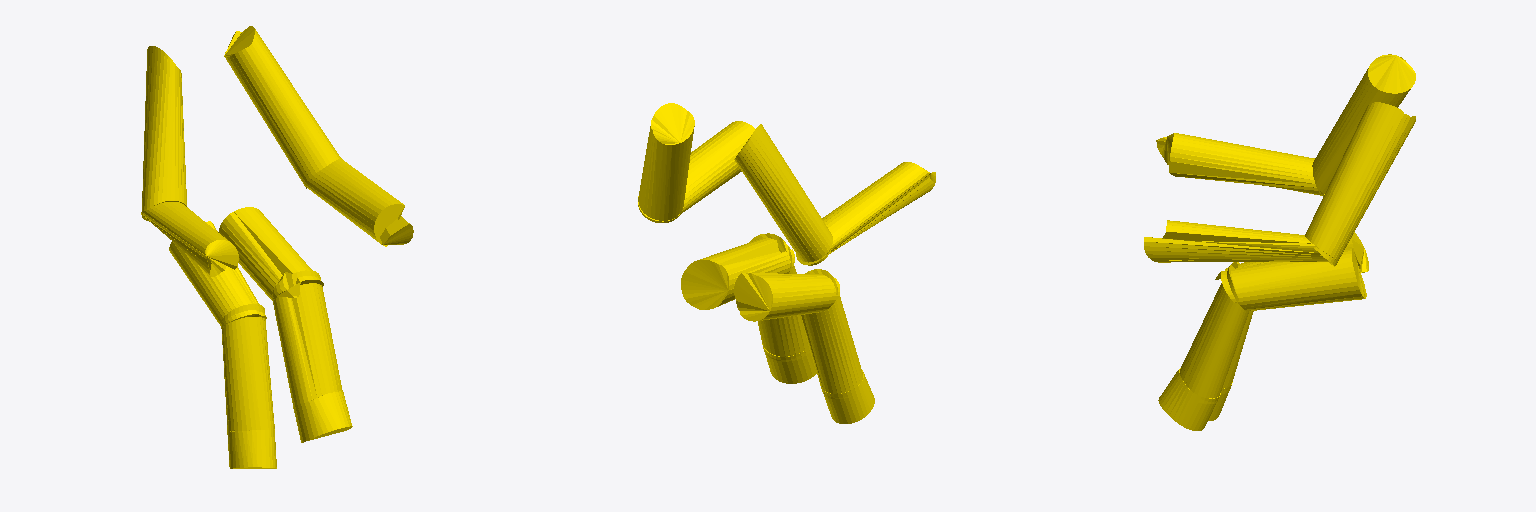
Rendered from bodyless.obj.
The picture shows the model from 3 angles: view 1: azimuth 30°, elevation 25°; view 2: azimuth 150°, elevation 25°; view 3: azimuth 270°, elevation 25°; orthographic projection.
Parts seen in each view (by area): view 1: Player_Poppy_Playtime; view 2: Player_Poppy_Playtime; view 3: Player_Poppy_Playtime.
Boxes of the visible parts, <box> form: Player_Poppy_Playtime: <box>141,26,413,468</box>; Player_Poppy_Playtime: <box>638,103,935,423</box>; Player_Poppy_Playtime: <box>1144,54,1415,430</box>.
Bounding box in the file's own units: 1.98 × 3.2 × 2.19.